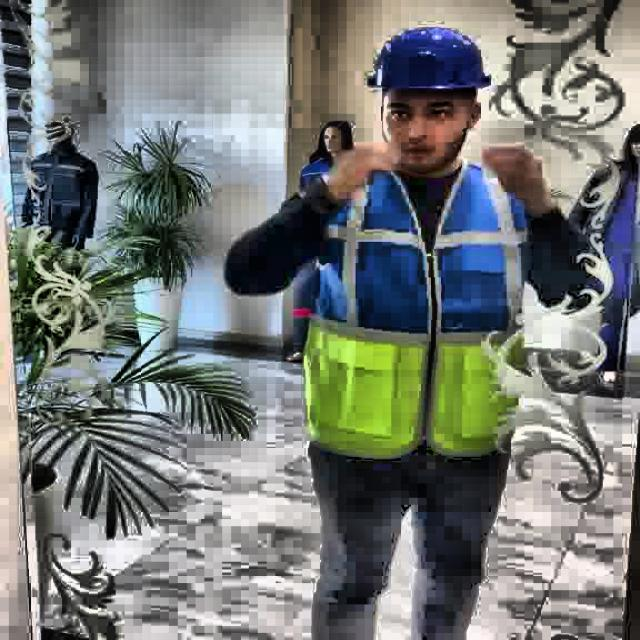safety_helmet: (367, 28, 493, 92)
safety_jacket: (304, 158, 532, 464)
